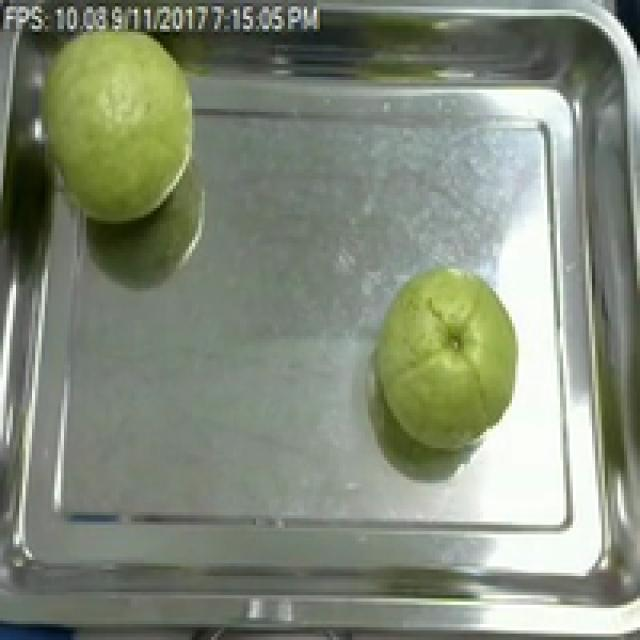Fruit: (0, 3, 208, 237), (365, 259, 528, 461)
